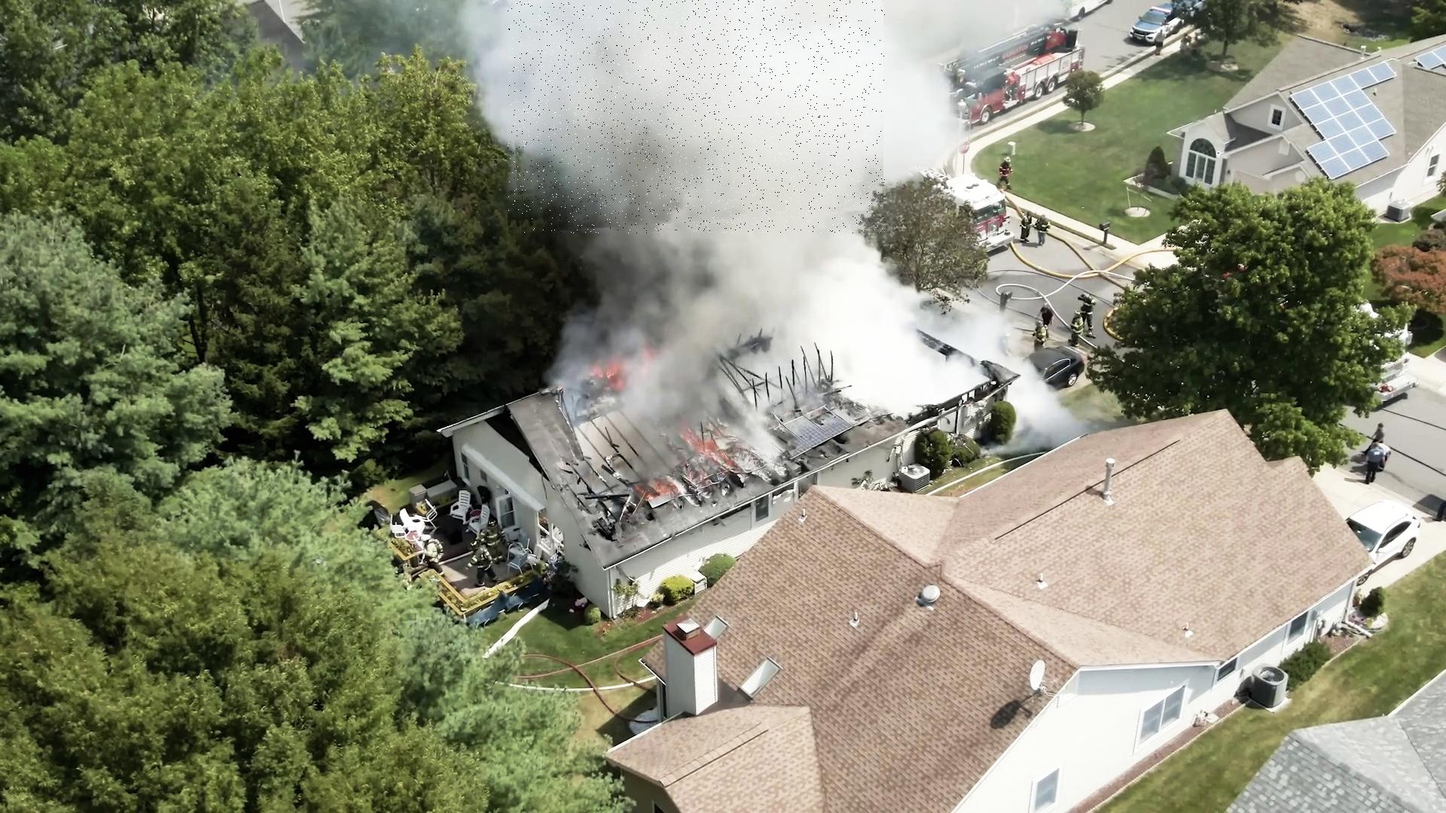smoke: (508, 0, 885, 234)
